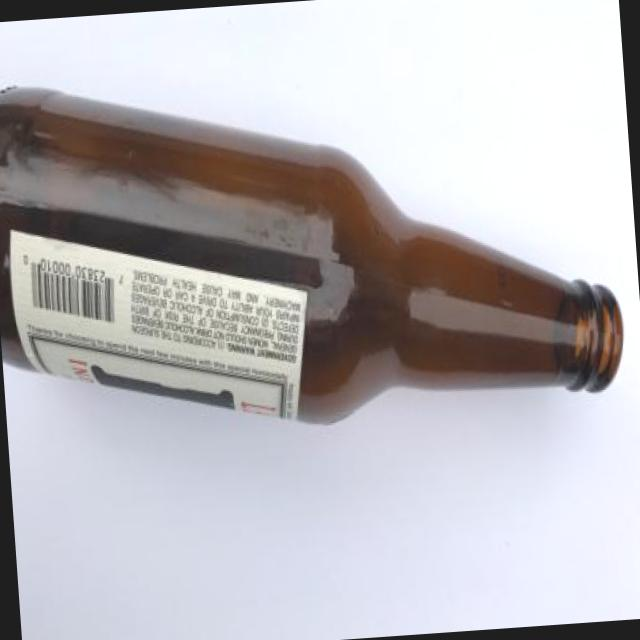chai_thuy_tinh: (0, 91, 622, 424)
